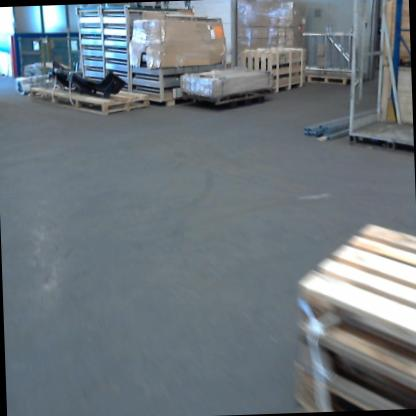pallet: (293, 314, 416, 413), (288, 357, 395, 410), (29, 80, 155, 122), (181, 83, 274, 110), (306, 67, 364, 86)
